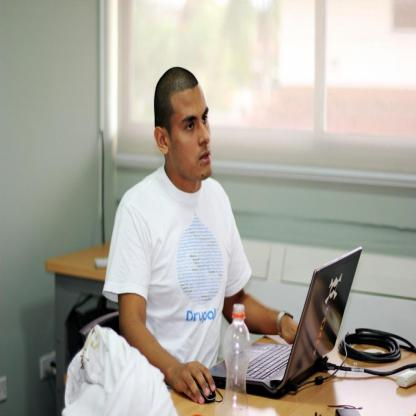board: (216, 268, 356, 402), (220, 302, 247, 416)
